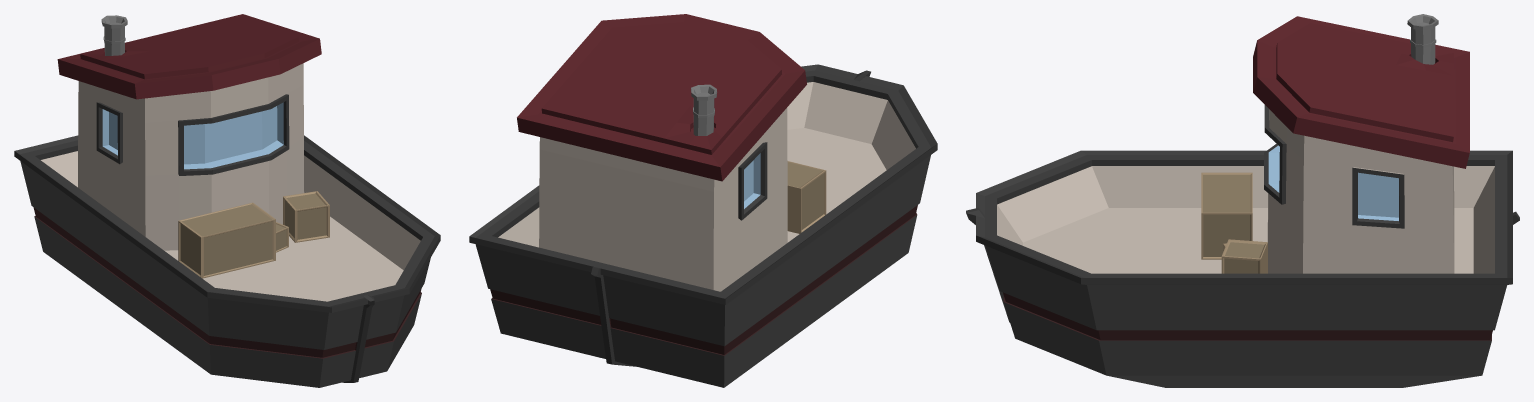
The model's file is boat.fbx.
3 renders of one model, left to right at view 1: azimuth 30°, elevation 25°; view 2: azimuth 150°, elevation 25°; view 3: azimuth 270°, elevation 25°, orthographic. The views are drawn at different scales.
Visible parts, largest first — view 1: Cube; view 2: Cube; view 3: Cube.
Boxes of the visible parts, <box> form: Cube: <box>14,14,440,387</box>; Cube: <box>469,14,937,387</box>; Cube: <box>966,14,1519,387</box>.
Bounding box in the file's own units: 281 × 313 × 517.
